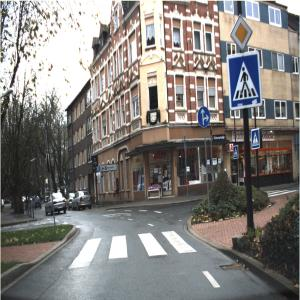go right or straight: (198, 107, 211, 129)
